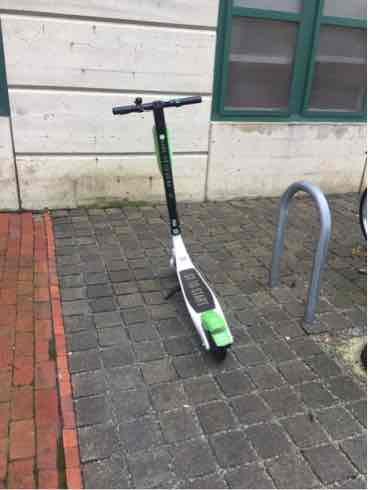scooter: (108, 89, 246, 366)
